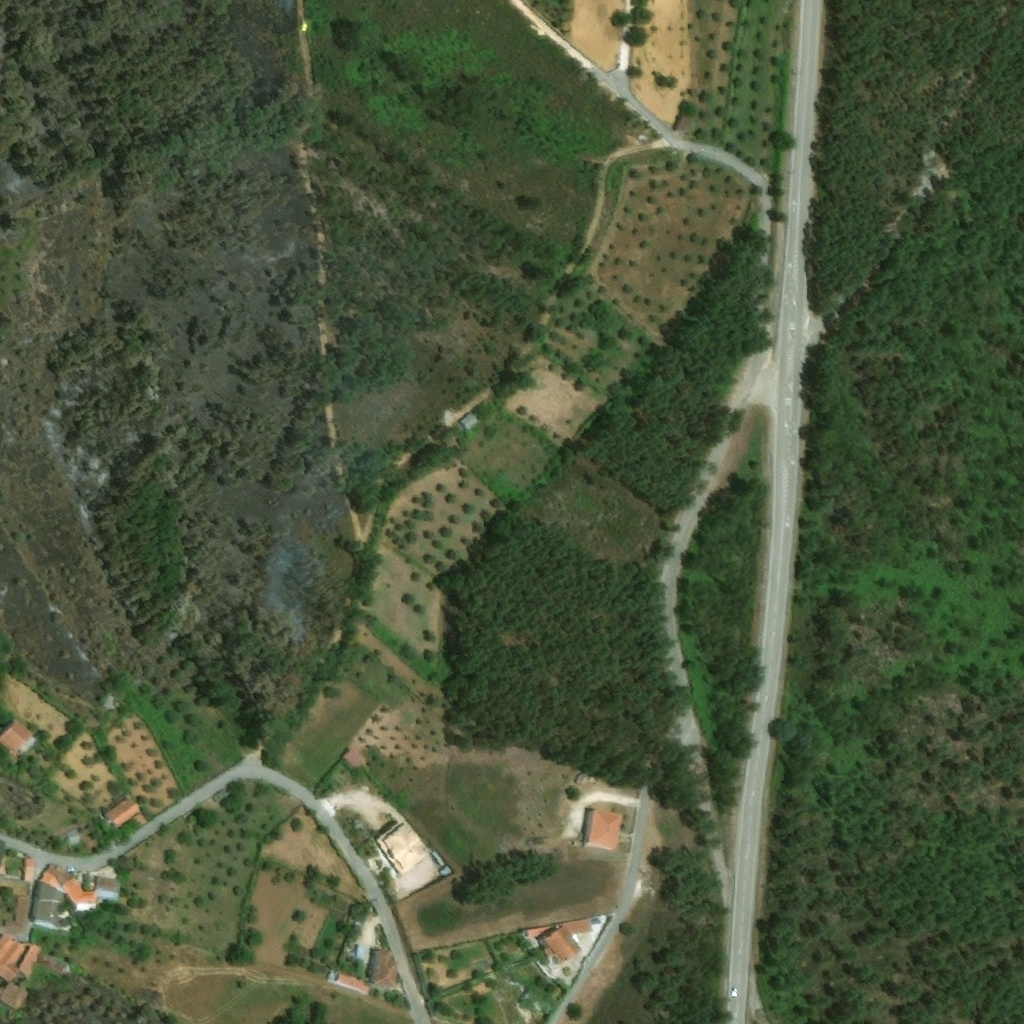0 no-damage: (383, 823, 427, 868), (587, 810, 623, 849), (545, 926, 581, 963), (0, 934, 27, 983), (104, 796, 142, 830), (31, 881, 62, 922), (0, 720, 34, 754), (369, 949, 398, 985), (61, 878, 96, 906), (3, 897, 29, 932), (17, 944, 40, 978), (0, 982, 27, 1009), (0, 841, 19, 876), (336, 975, 369, 992), (43, 866, 74, 884), (95, 875, 121, 895), (563, 919, 592, 934), (342, 749, 362, 769), (94, 691, 114, 710), (457, 413, 478, 431), (65, 828, 82, 847), (22, 858, 33, 883), (37, 871, 55, 886), (133, 812, 150, 827), (117, 856, 134, 869)
